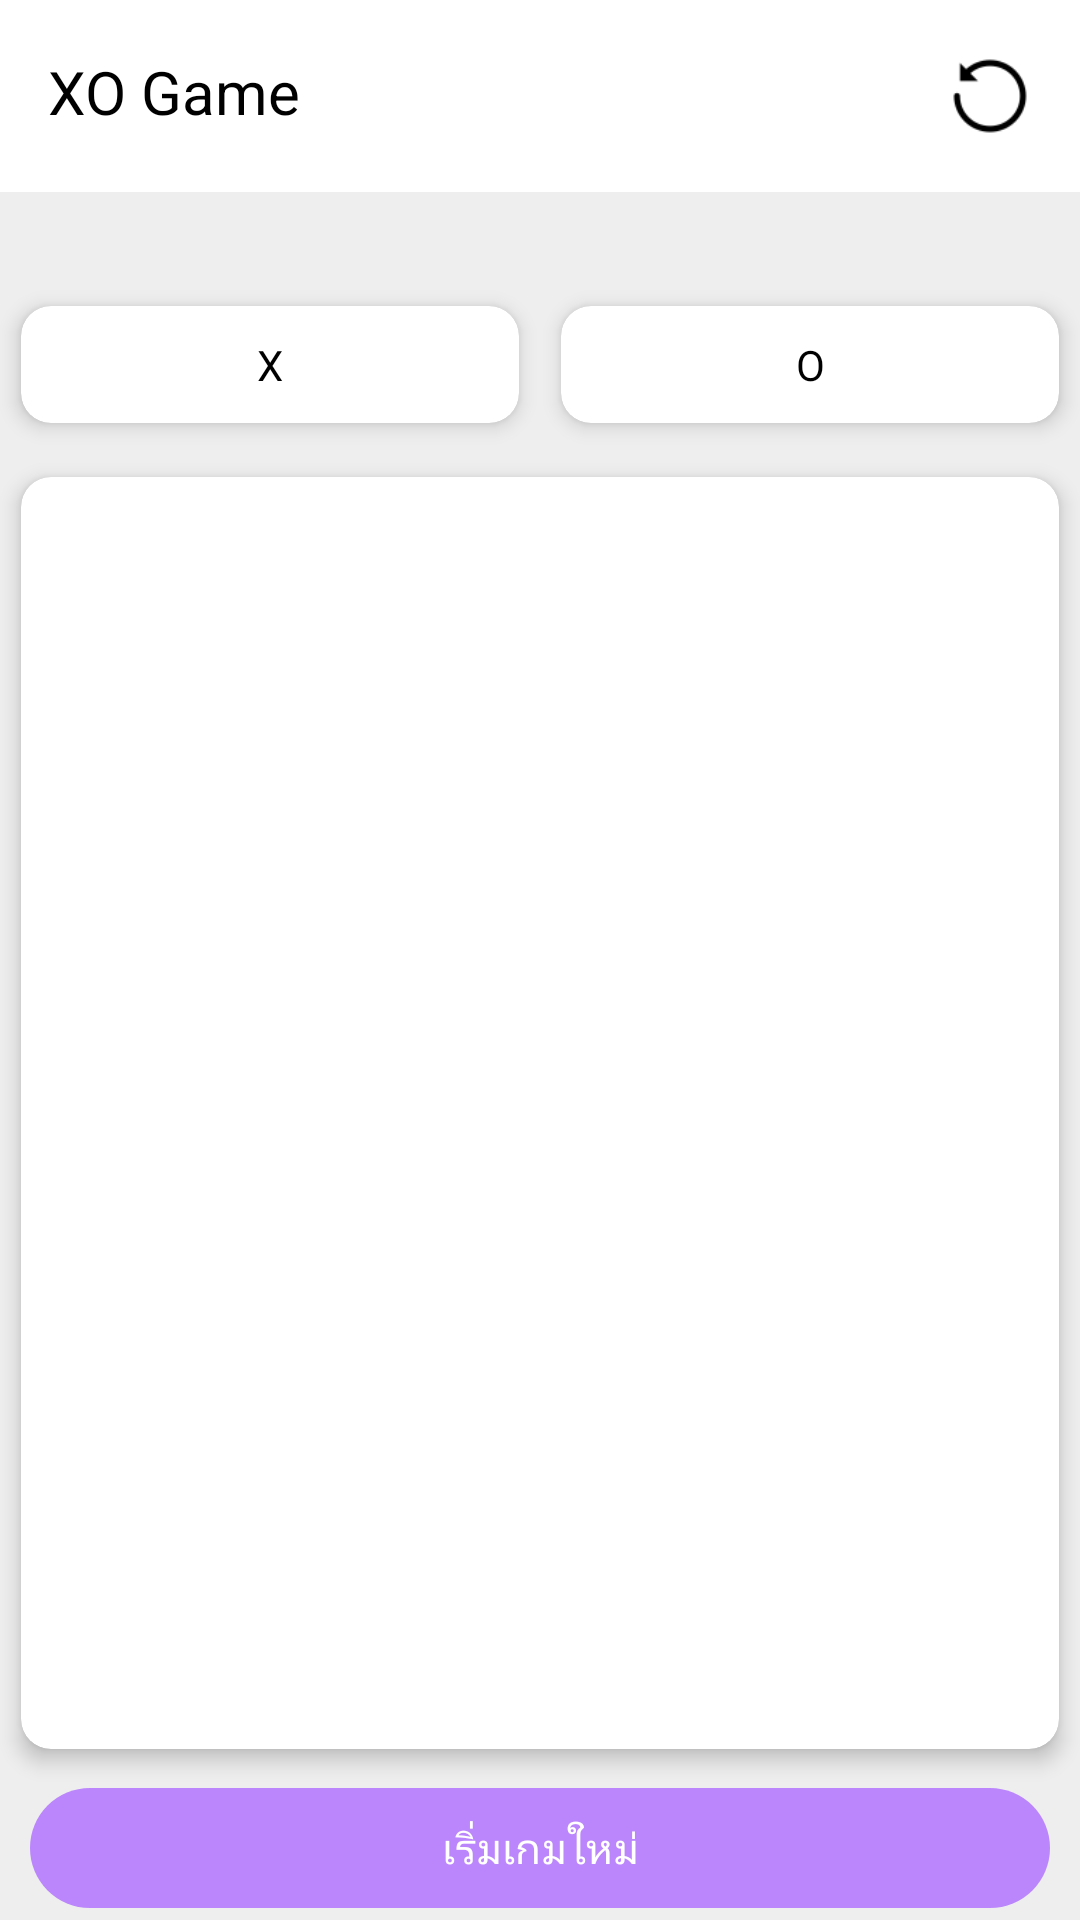

Named icons in this screenshot (1080 x 1920) and their centers, (x,y):
replay: (990,96)
